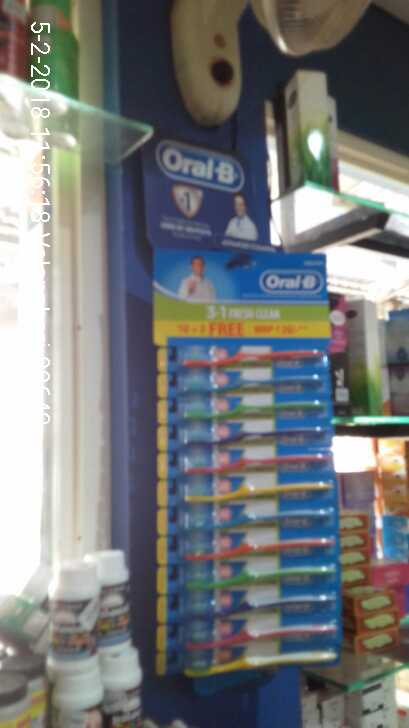oralb: (180, 475, 336, 509), (174, 396, 331, 422), (168, 349, 327, 372), (173, 373, 323, 395), (169, 460, 333, 477), (182, 431, 329, 446)
